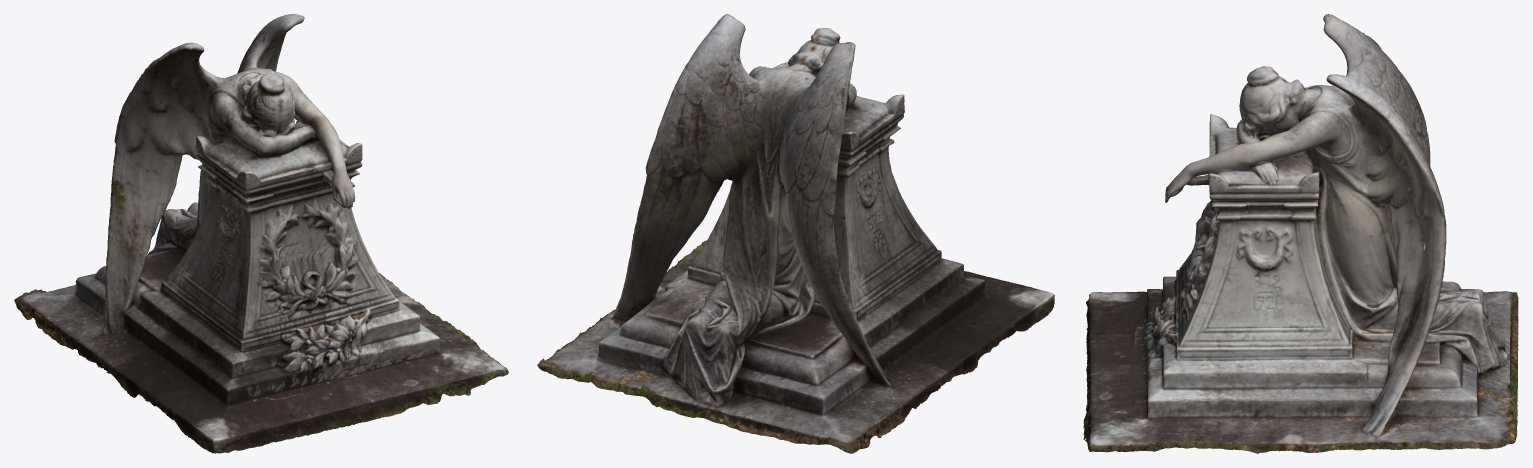
The model's file is frank.glb.
The picture shows the model from 3 angles, left to right: view 1: azimuth 30°, elevation 25°; view 2: azimuth 150°, elevation 25°; view 3: azimuth 270°, elevation 25°; orthographic projection. The views are drawn at different scales.
Visible parts, largest first — view 1: Franks.C352.SC130k.DC32270k.M2064k; view 2: Franks.C352.SC130k.DC32270k.M2064k; view 3: Franks.C352.SC130k.DC32270k.M2064k.
Part boxes in pixels (x1=…): Franks.C352.SC130k.DC32270k.M2064k: x1=14, y1=14, x2=508, y2=453; Franks.C352.SC130k.DC32270k.M2064k: x1=537, y1=14, x2=1054, y2=453; Franks.C352.SC130k.DC32270k.M2064k: x1=1083, y1=14, x2=1518, y2=453.
Bounding box in the file's own units: 1.7 × 1.68 × 1.95.
1 material, 1 textured.
